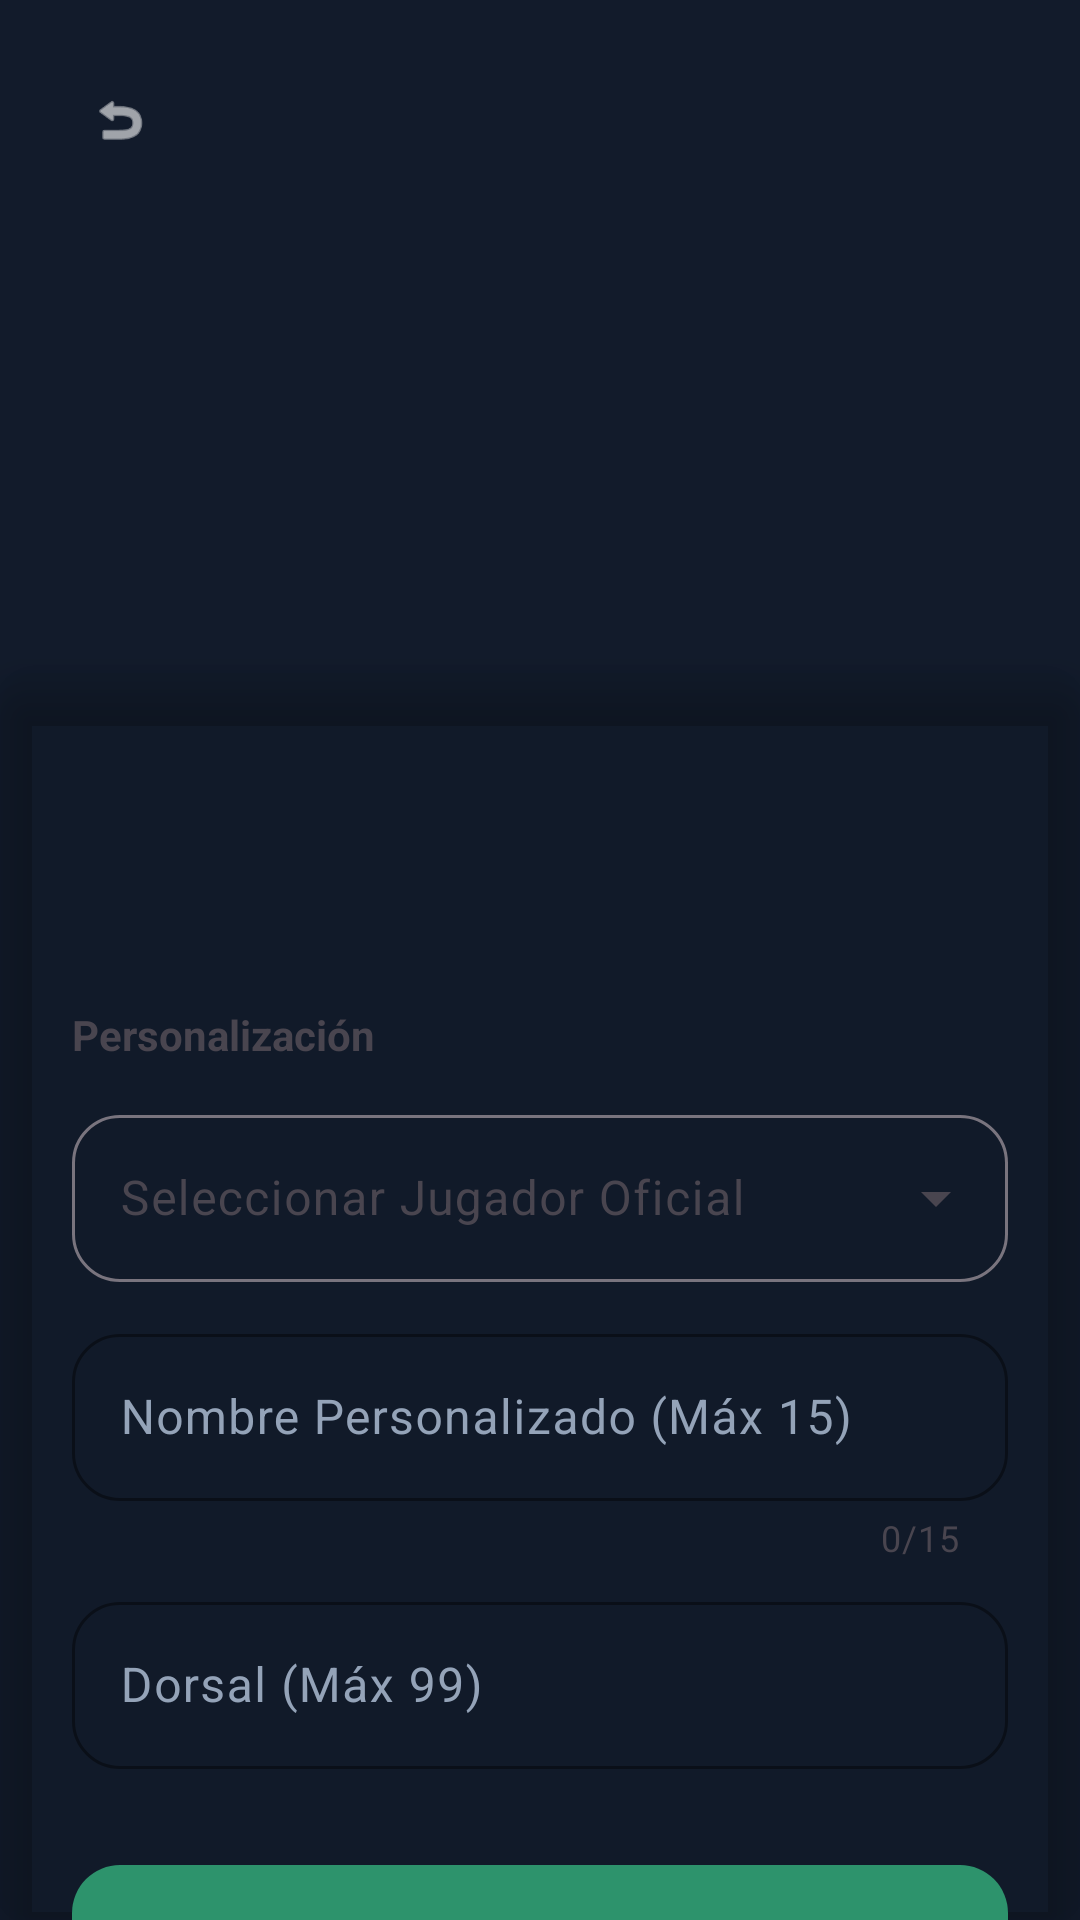

Icons on this 1080*1920 Android screen, each with the point to tap as [x,y]:
revert: [120,120]
